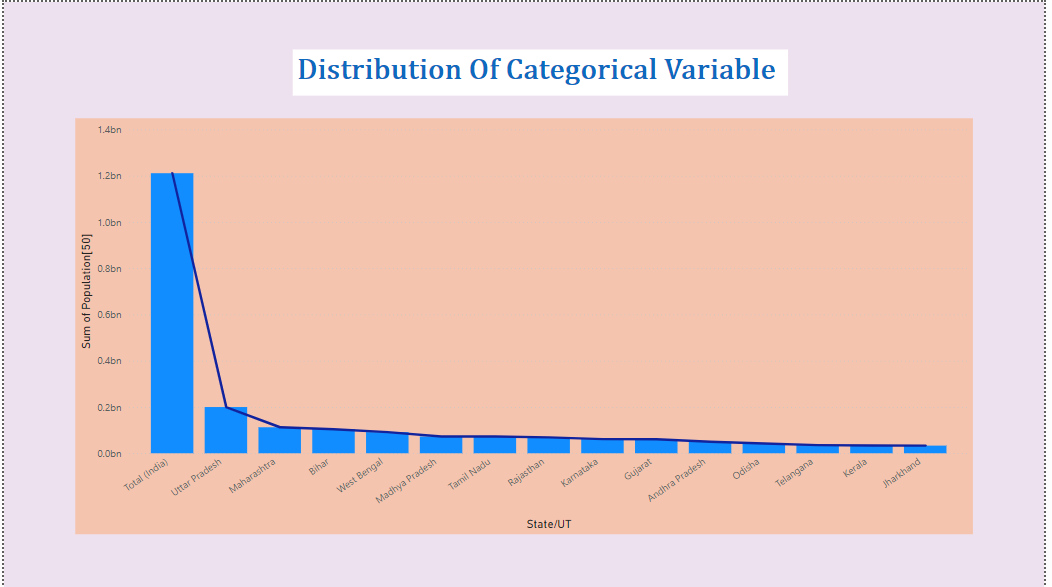

This screenshot's page, from the dashboard's own definition file:
{"tool":"powerbi","page":{"name":"Page 1","canvas":[1280,720],"ordinal":0},"visuals":[{"type":"textbox","box":[355.4,58.5,609.2,56.9],"z":1},{"type":"lineClusteredColumnComboChart","fields":{"Category":["Population of India.State/UT"],"Y":["Sum(Population of India.Population[50])"],"Y2":["Sum(Population of India.Population[50])"]},"box":[87.7,143.1,1104.6,512.3],"z":2}]}

Visuals, with their boxes in screenshot pixels (x1, y1, x2, y2), scaled from the page's 1280x720 canvas onto the 1052x587 screenshot:
textbox: rect(292, 48, 793, 94)
lineClusteredColumnComboChart - Population of India.State/UT x Sum(Population of India.Population[50]): rect(72, 117, 980, 534)
